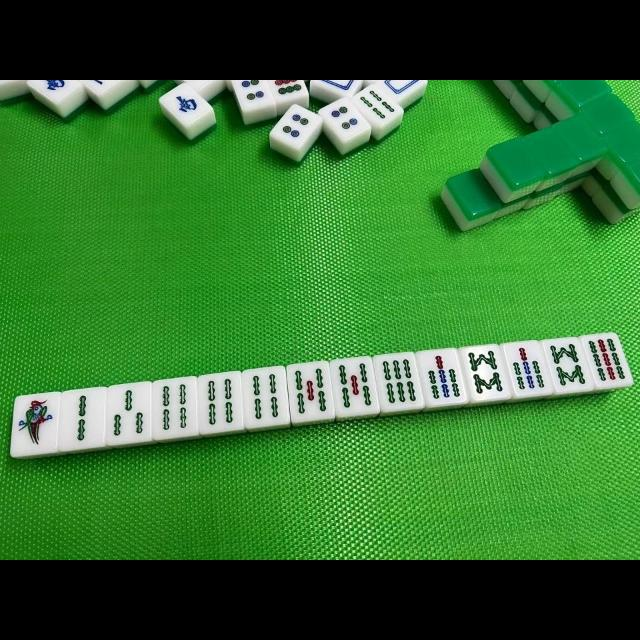b1: (12, 393, 58, 455)
b2: (60, 388, 104, 450)
b3: (108, 382, 152, 444)
b4: (154, 376, 200, 440), (245, 367, 291, 429), (200, 371, 244, 434), (355, 84, 399, 126)
b5: (287, 362, 335, 422), (332, 356, 378, 416)
b6: (376, 352, 422, 410)
b7: (418, 350, 466, 406), (506, 340, 552, 398)
b8: (460, 345, 508, 401), (545, 338, 589, 392)
b9: (584, 333, 634, 389)
d4: (277, 106, 313, 146), (324, 100, 364, 136)
ws: (164, 88, 208, 124)
